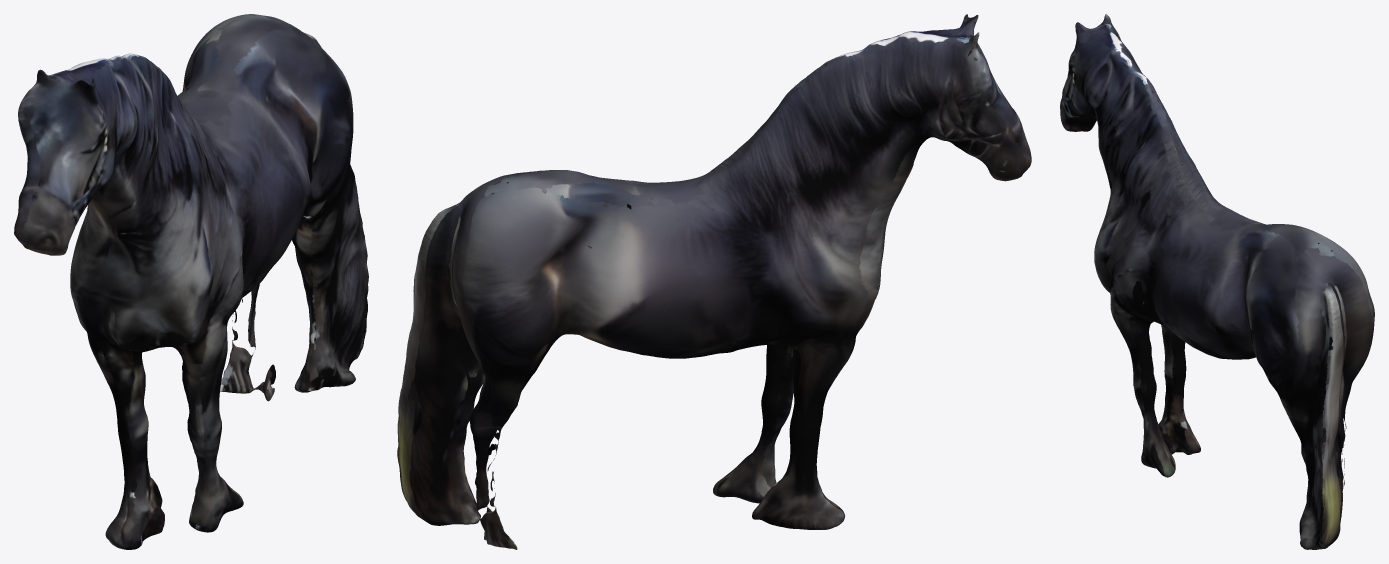
File: adulto.glb
3 views of the same model, side by side, from view 1: azimuth 30°, elevation 25°; view 2: azimuth 150°, elevation 25°; view 3: azimuth 270°, elevation 25° (orthographic). The views are drawn at different scales.
Visible parts, largest first — view 1: mesh; view 2: mesh; view 3: mesh.
Boxes of the visible parts, box(x1,y1,x2,y2) form: mesh: box(14, 14, 368, 549); mesh: box(397, 14, 1031, 549); mesh: box(1060, 14, 1374, 549).
Size of the model in its own units: 1.43 by 1.4 by 1.04.
1 material, 1 textured.
